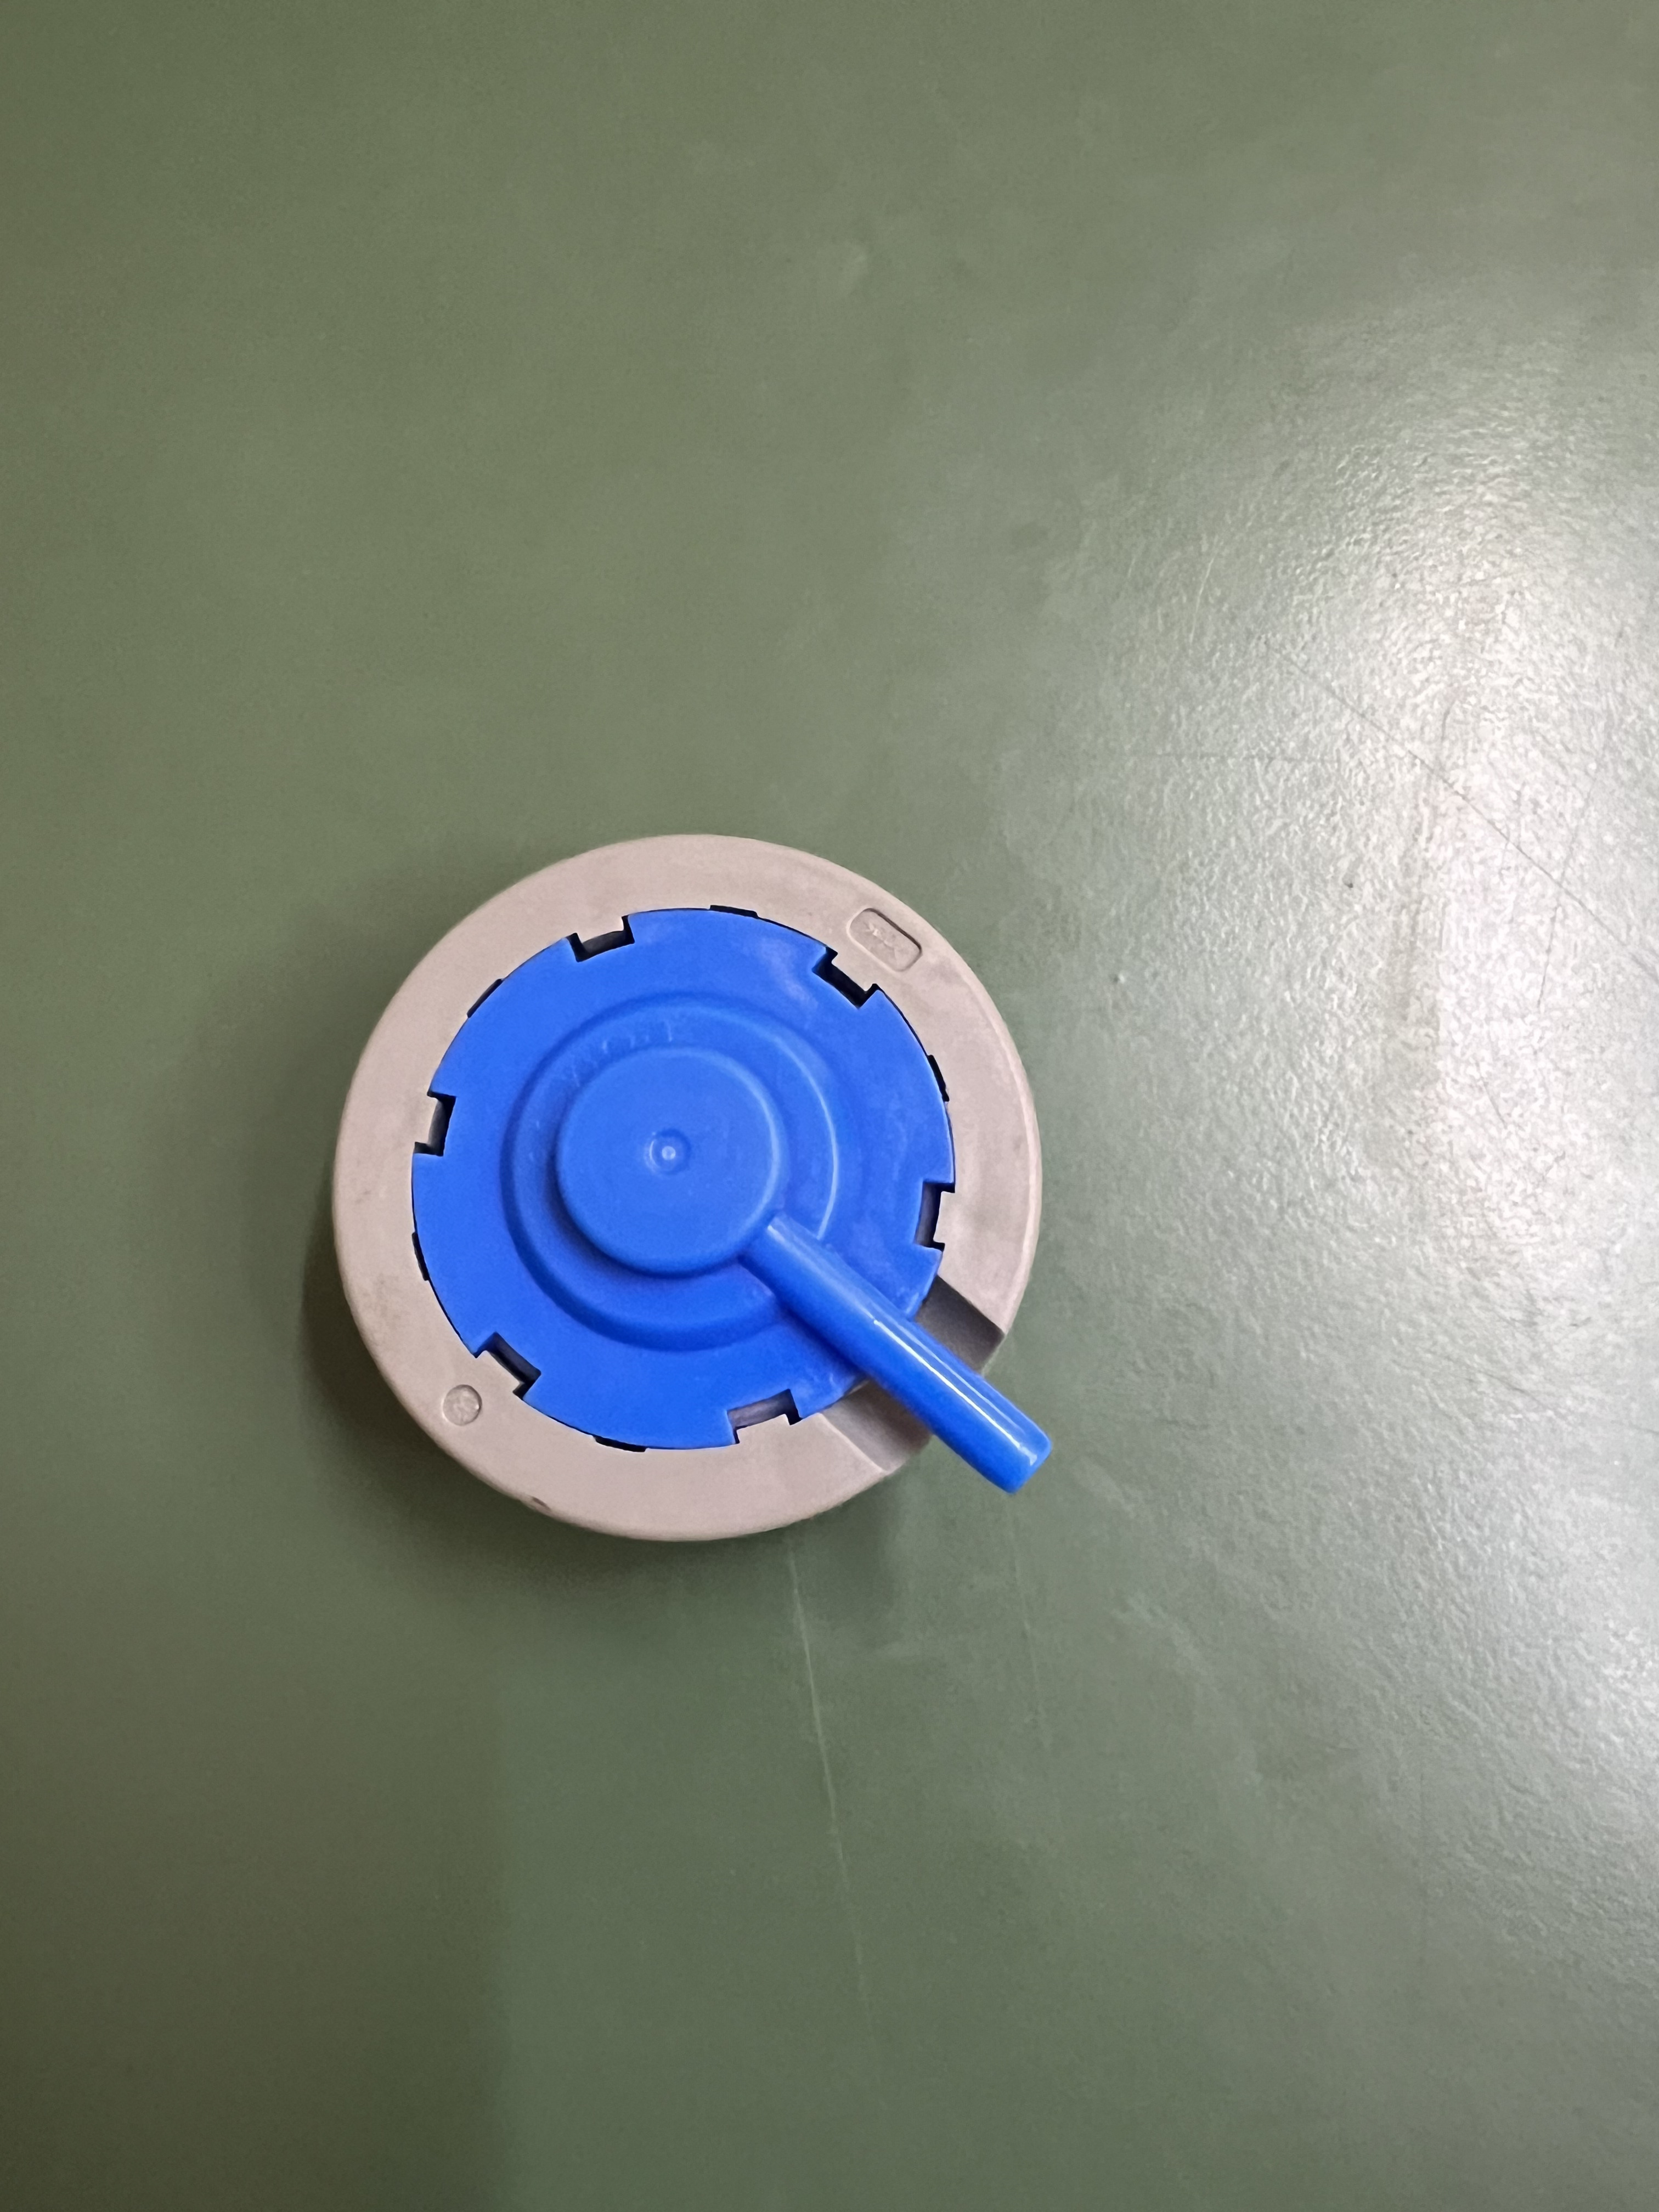pressure_sensor: (321, 831, 1091, 1554)
